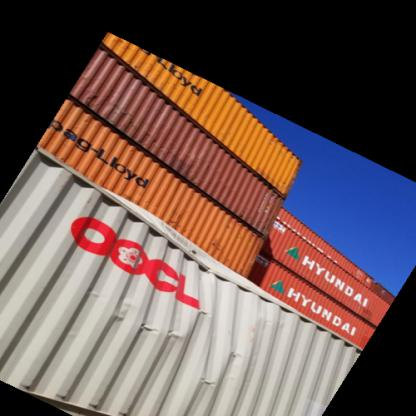Damage: (97, 223, 277, 385)
